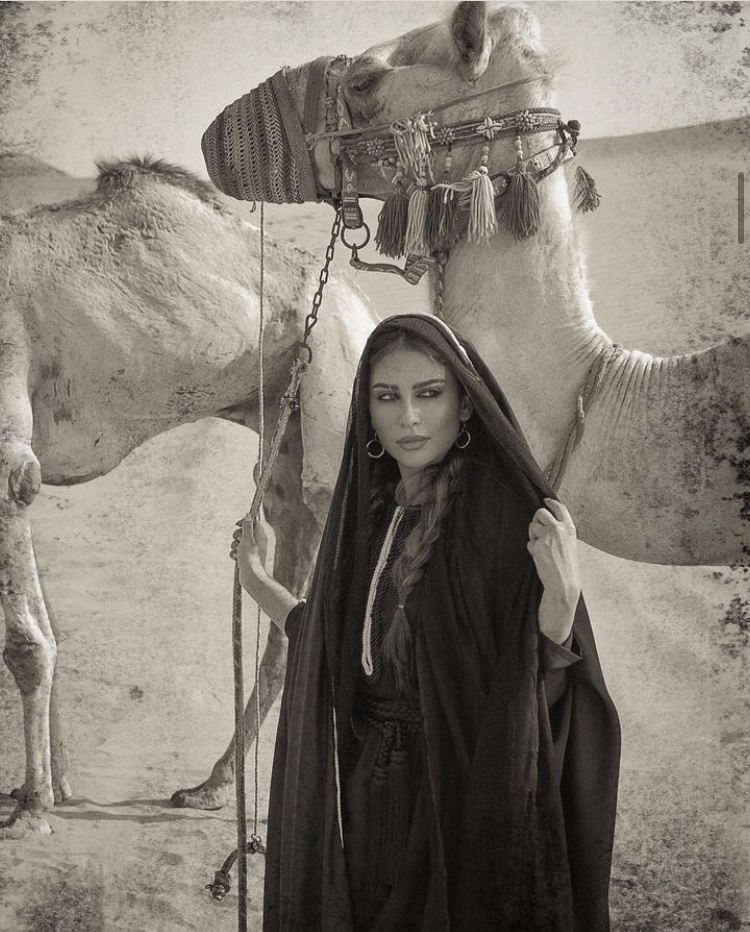Saudi_Founding_Day: (228, 310, 626, 930)
